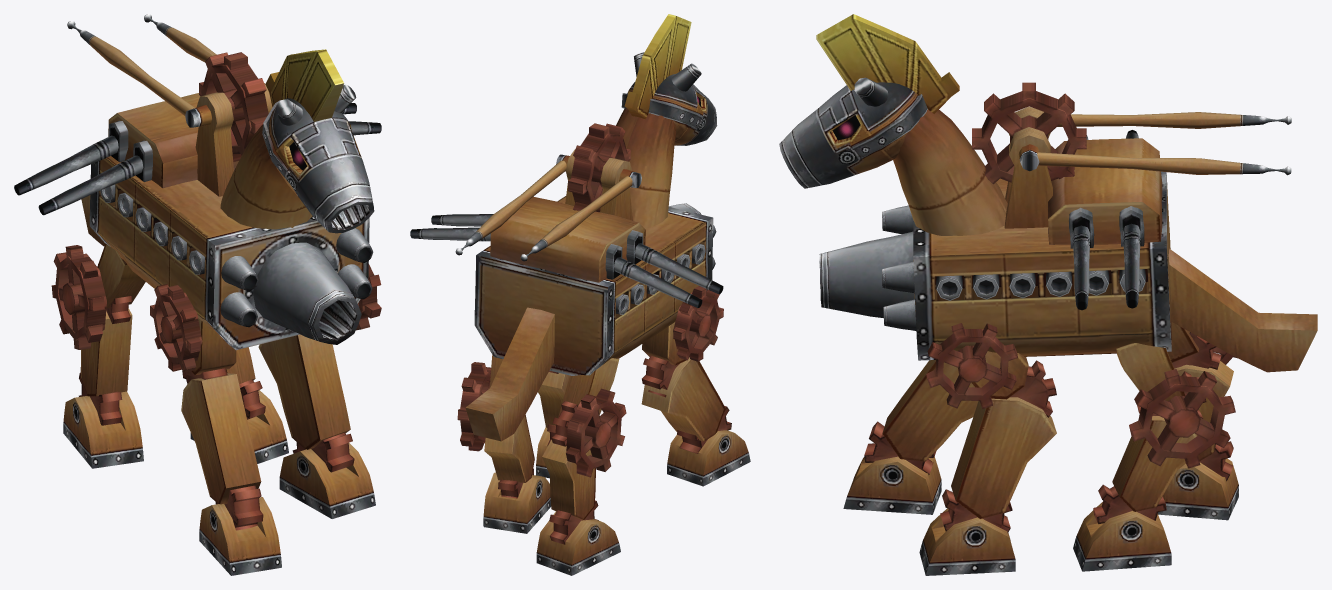
3 renders of one model, left to right at view 1: azimuth 30°, elevation 25°; view 2: azimuth 150°, elevation 25°; view 3: azimuth 270°, elevation 25°, orthographic. The views are drawn at different scales.
Parts seen in each view (by area): view 1: ancienttroiamon; view 2: ancienttroiamon; view 3: ancienttroiamon.
Part boxes in pixels (x1=…): ancienttroiamon: x1=14, y1=14, x2=381, y2=575; ancienttroiamon: x1=410, y1=14, x2=750, y2=575; ancienttroiamon: x1=779, y1=14, x2=1317, y2=575.
Size of the model in its own units: 364 by 516 by 488.
1 material, 1 textured.
